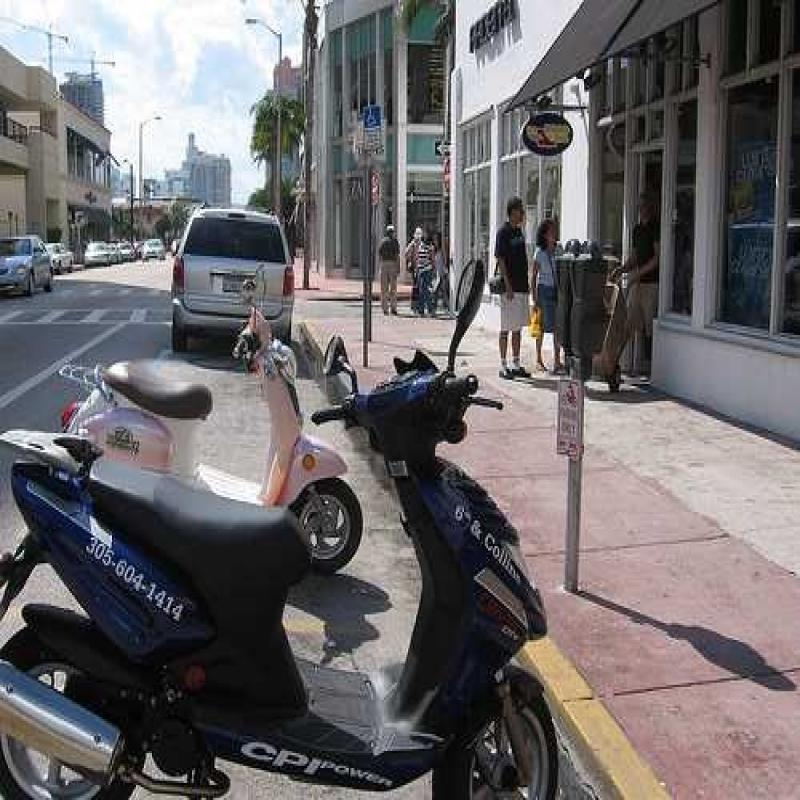bike: (0, 338, 570, 790), (61, 308, 364, 498)
